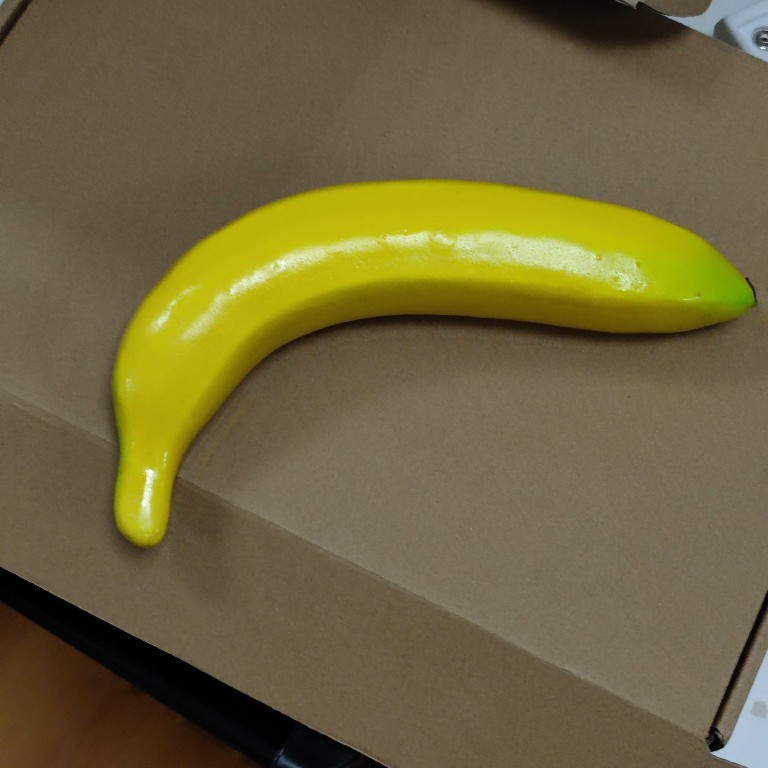fruit_banana: (103, 176, 760, 554)
